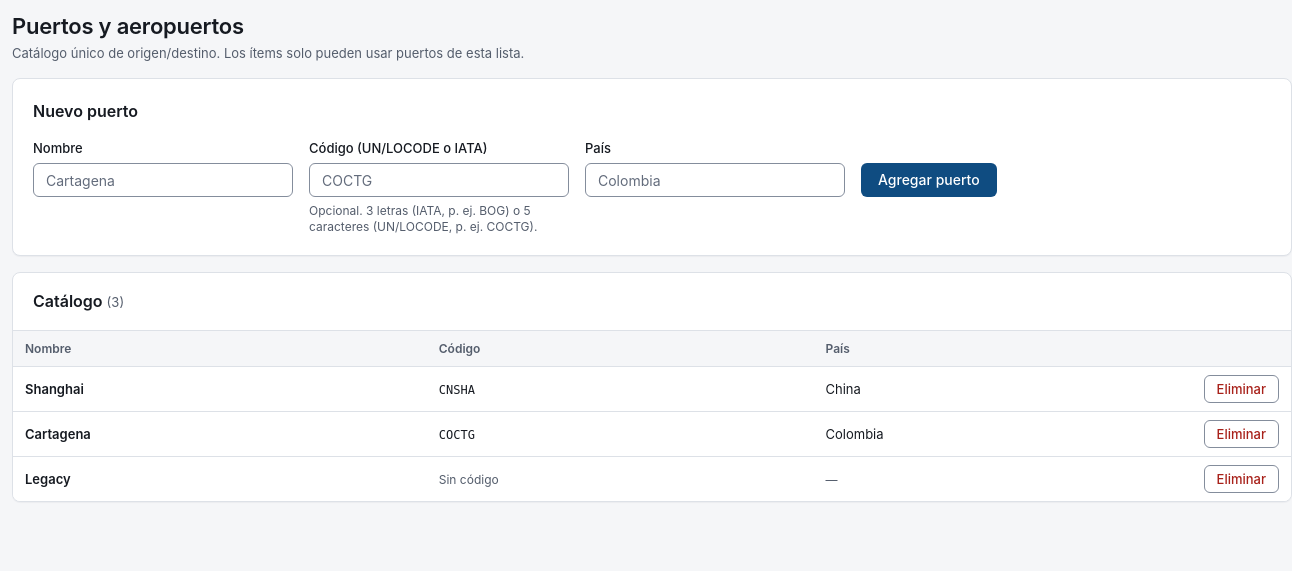
Test: PuertosPage › muestra el 409 del backend (duplicado) y conserva lo escrito
Type "cartagena" into the field labelled "Nombre".
click(163, 180); type("cartagena")  # box 33,163 -> 293,197
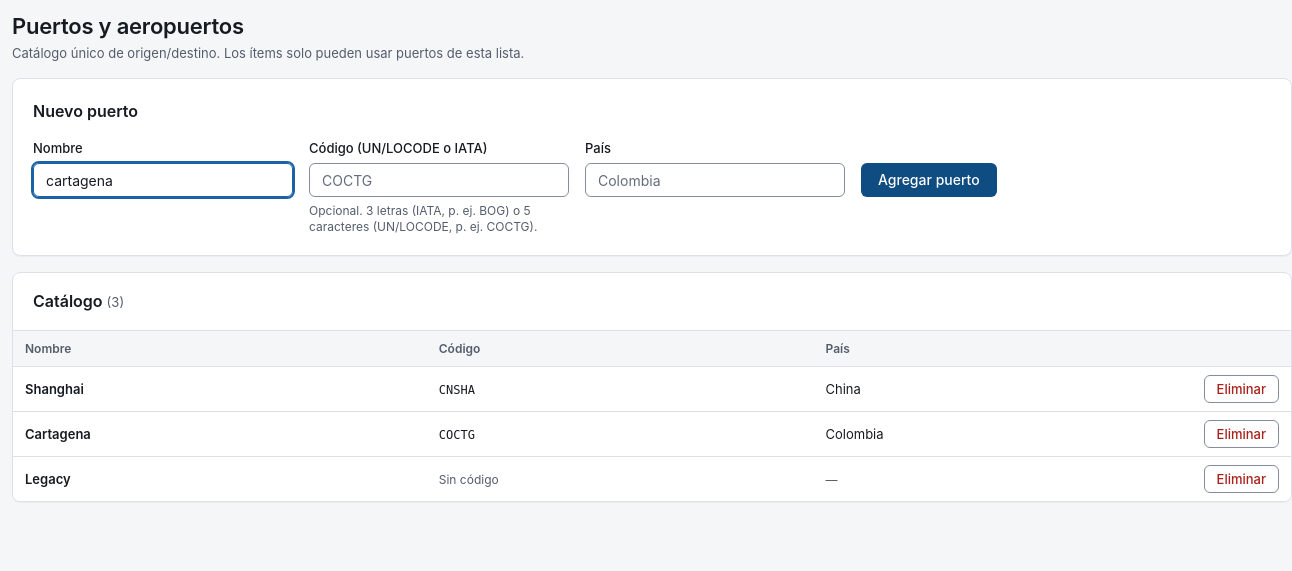
Click the button "Agregar puerto".
click(929, 180)  # box 861,163 -> 997,197
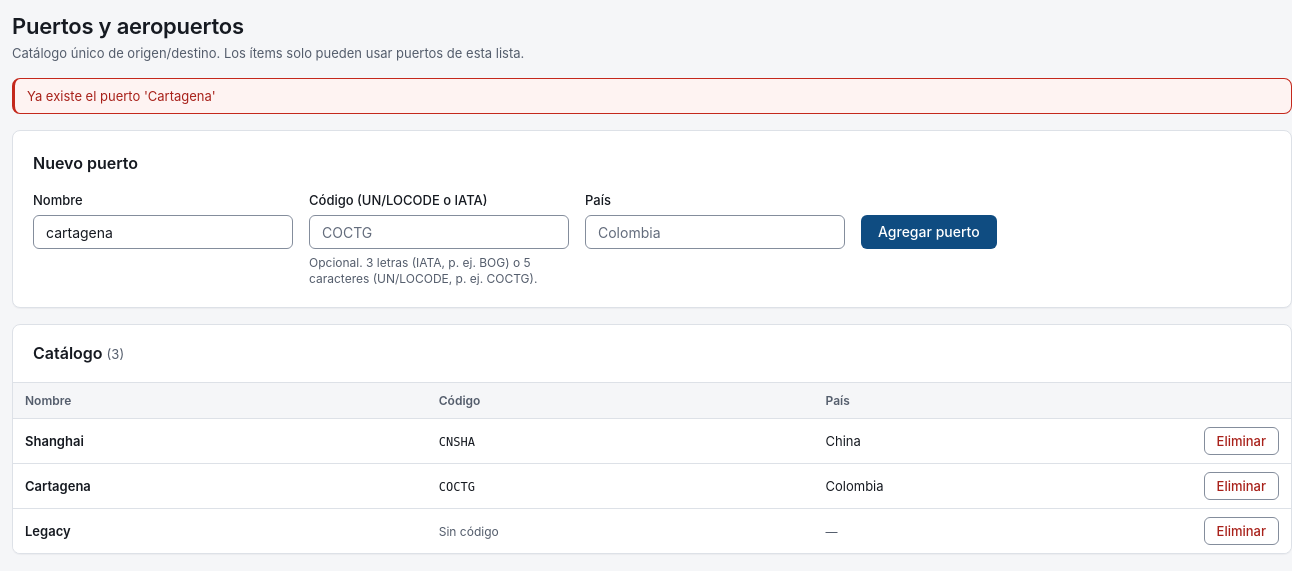
Expected: the text "Ya existe el puerto 'Cartagena'" is shown, 12,78 -> 1291,114
